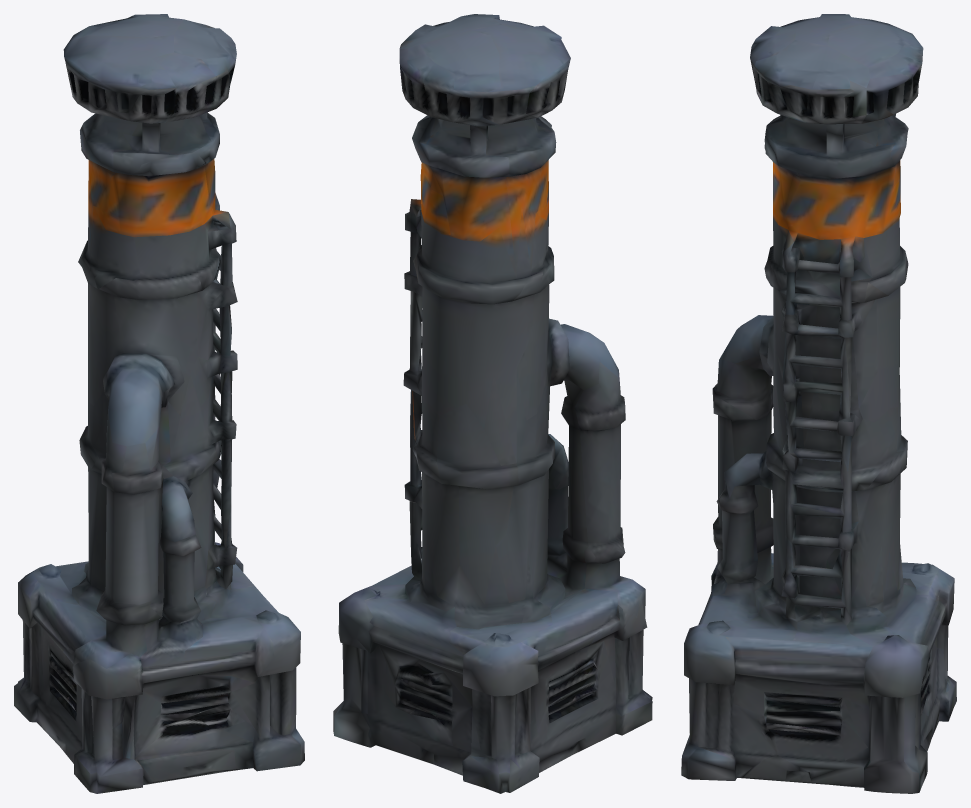
The model's file is env-vent-tall.glb.
3 renders of one model, left to right at view 1: azimuth 30°, elevation 25°; view 2: azimuth 150°, elevation 25°; view 3: azimuth 270°, elevation 25°, orthographic.
Parts seen in each view (by area): view 1: env-vent-tall; view 2: env-vent-tall; view 3: env-vent-tall.
Part boxes in pixels (bbox=[...]): env-vent-tall: bbox=[14, 14, 304, 793]; env-vent-tall: bbox=[333, 14, 652, 793]; env-vent-tall: bbox=[681, 14, 956, 793].
Size of the model in its own units: 1.55 by 4.5 by 1.6.
1 material, 1 textured.
